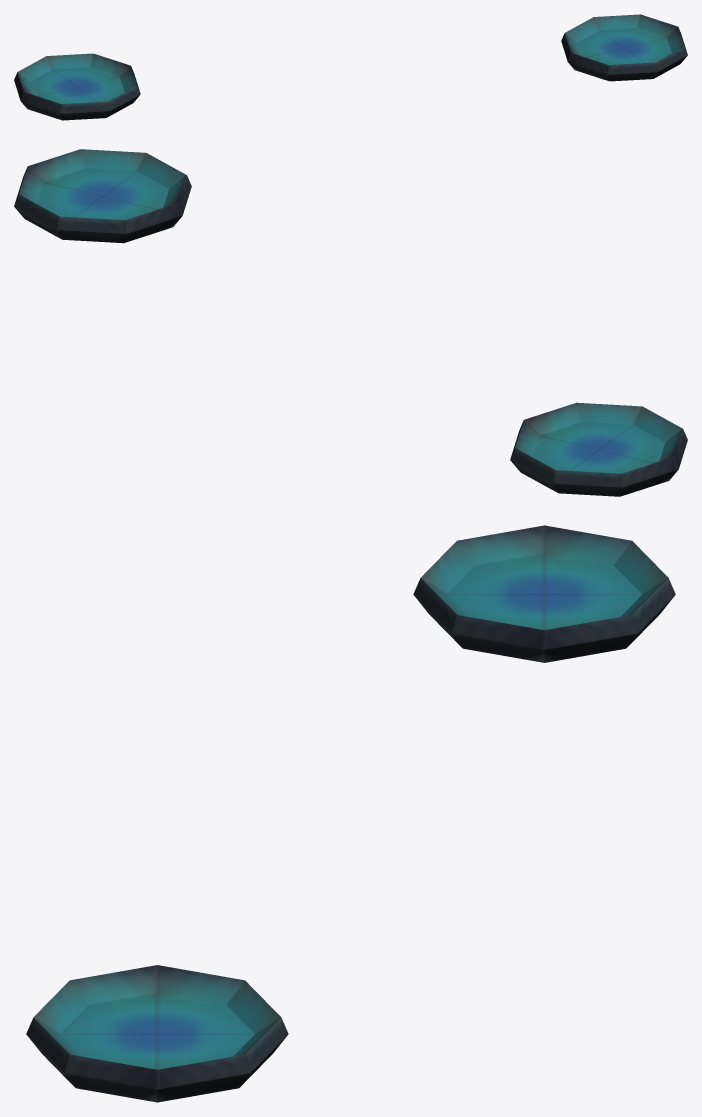
File: Area02_3.fbx
3 views of the same model, one above another, from view 1: azimuth 30°, elevation 25°; view 2: azimuth 150°, elevation 25°; view 3: azimuth 270°, elevation 25° (orthographic). The views are drawn at different scales.
Parts seen in each view (by area): view 1: Area02_3; view 2: Area02_3; view 3: Area02_3.
Boxes of the visible parts, <box> form: Area02_3: <box>14,14,687,120</box>; Area02_3: <box>14,149,687,496</box>; Area02_3: <box>26,525,675,1102</box>.
Size of the model in its own units: 559 by 17.17 by 279.
